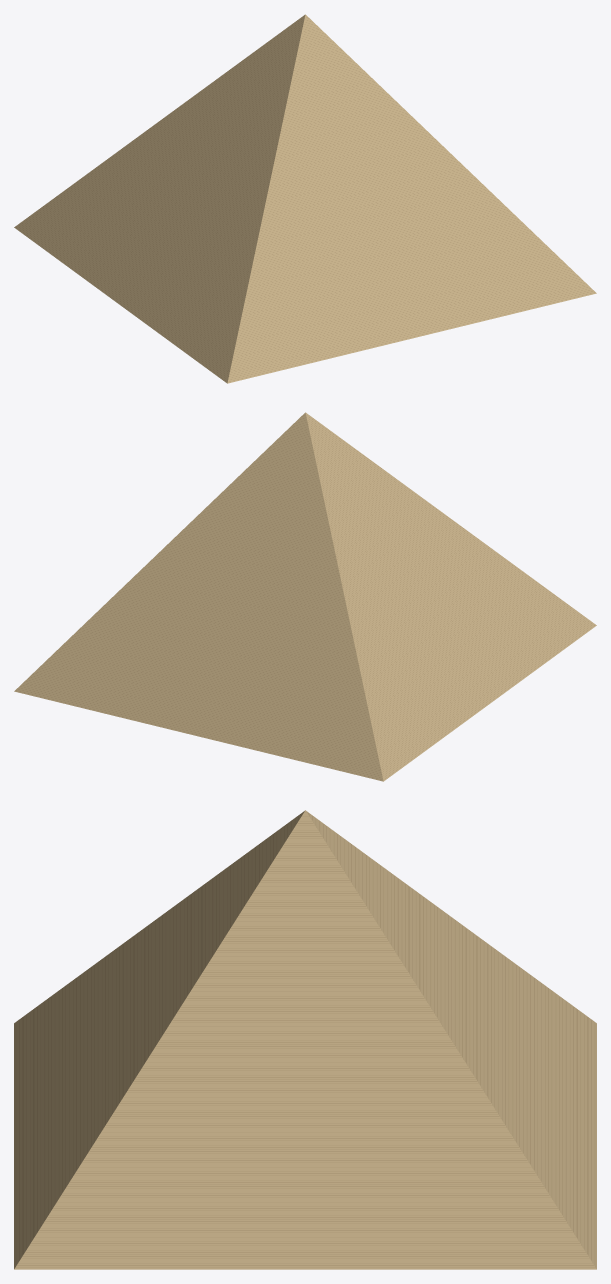
Rendered from measured-great-pyramid.glb.
The picture shows the model from 3 angles, top to bottom: view 1: azimuth 30°, elevation 25°; view 2: azimuth 150°, elevation 25°; view 3: azimuth 270°, elevation 25°; orthographic projection. The views are drawn at different scales.
Visible parts, largest first — view 1: pyramid; view 2: pyramid; view 3: pyramid.
Boxes of the visible parts, left/top/right/bottom form: pyramid: left=14, top=14, right=596, bottom=383; pyramid: left=14, top=412, right=596, bottom=781; pyramid: left=14, top=810, right=596, bottom=1269.
Bounding box in the file's own units: 230 × 147 × 230.
1 material, 1 textured.
